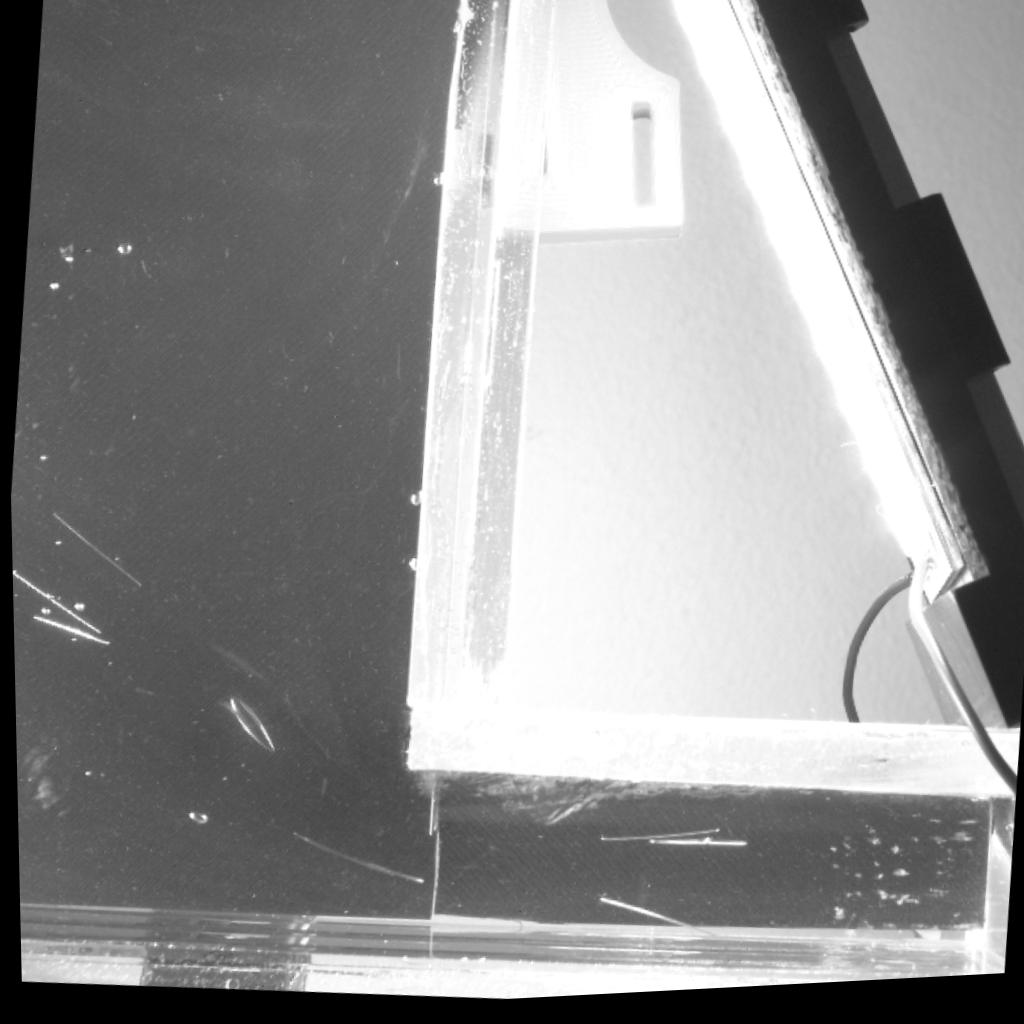Fiber: (43, 507, 145, 596), (280, 832, 427, 893), (10, 565, 102, 639), (593, 899, 721, 948), (27, 612, 109, 650), (595, 829, 721, 850), (643, 845, 743, 856)
